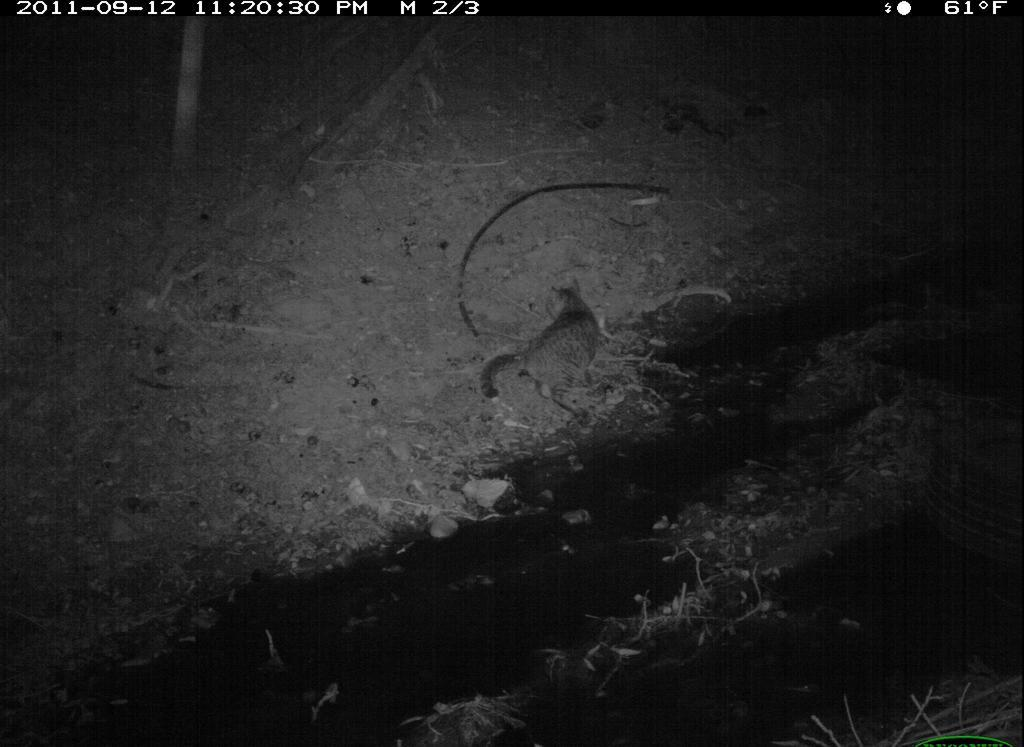cat: (470, 269, 623, 422)
